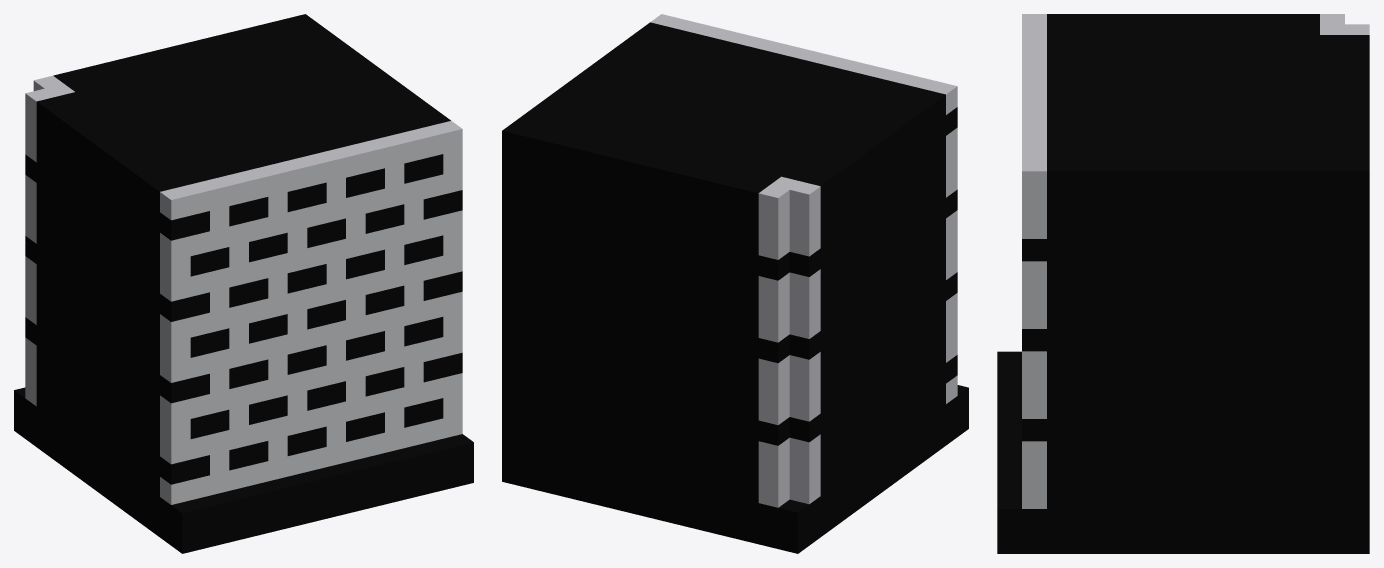
The model's file is dungeon_d_b_outer_wall_segment_d.obj.
3 views of the same model, side by side, from view 1: azimuth 30°, elevation 25°; view 2: azimuth 150°, elevation 25°; view 3: azimuth 270°, elevation 25° (orthographic). The views are drawn at different scales.
Bounding box in the file's own units: 1.5 × 1.7 × 1.5.
Materials: 1 (1 with a texture image).
